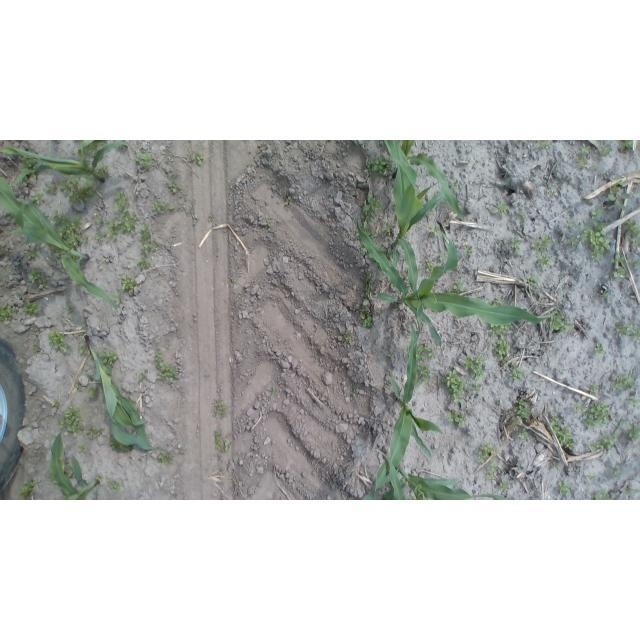Maize: (349, 214, 563, 347), (1, 172, 124, 309), (368, 321, 449, 500), (385, 140, 447, 310), (83, 333, 168, 451), (360, 450, 508, 500), (387, 140, 465, 228), (0, 140, 128, 183), (49, 417, 104, 500)
Weeds: (53, 211, 88, 253), (586, 419, 623, 453), (582, 222, 611, 262), (59, 177, 97, 205), (574, 401, 611, 429), (105, 210, 139, 239), (60, 404, 87, 438), (153, 351, 180, 383), (608, 178, 631, 212), (443, 368, 466, 402), (361, 197, 383, 232), (464, 354, 489, 380), (139, 224, 158, 257), (553, 423, 576, 450), (576, 144, 598, 170), (366, 157, 393, 178), (548, 311, 573, 333), (613, 321, 640, 340), (609, 253, 627, 280), (49, 331, 70, 354), (513, 399, 533, 423), (623, 220, 640, 246), (477, 442, 498, 463), (18, 480, 39, 500), (416, 342, 436, 363), (28, 270, 50, 289), (530, 235, 554, 252), (446, 408, 466, 428), (166, 177, 186, 197), (492, 339, 511, 360), (112, 191, 129, 213), (214, 430, 230, 453), (22, 159, 39, 180), (134, 151, 155, 168), (613, 374, 635, 390), (212, 400, 228, 421), (488, 323, 513, 336), (416, 365, 431, 386), (363, 272, 374, 300), (523, 276, 541, 293), (100, 350, 119, 366), (120, 275, 136, 293), (361, 306, 374, 328), (109, 439, 131, 452), (189, 149, 205, 166), (85, 425, 103, 440), (1, 304, 16, 322), (486, 461, 499, 481), (509, 366, 525, 382), (107, 479, 124, 494), (24, 247, 41, 262), (153, 200, 174, 212), (537, 253, 551, 270), (449, 280, 467, 293), (495, 200, 510, 215), (558, 481, 573, 495), (592, 489, 613, 499), (627, 423, 640, 439), (509, 236, 522, 252), (157, 453, 174, 465), (137, 369, 151, 383), (384, 221, 397, 236), (24, 302, 39, 315), (623, 487, 640, 498), (424, 258, 436, 273), (620, 140, 635, 152), (264, 217, 276, 232), (629, 256, 640, 272), (114, 292, 125, 308), (30, 192, 44, 204), (77, 343, 89, 357), (94, 214, 105, 229), (517, 428, 529, 441), (587, 383, 600, 395), (599, 146, 612, 158), (594, 343, 606, 356), (98, 165, 111, 177), (468, 382, 482, 393), (464, 243, 475, 257), (44, 184, 58, 195), (550, 413, 561, 427), (428, 225, 440, 237), (591, 208, 603, 220), (536, 141, 552, 150), (94, 232, 106, 244), (139, 257, 150, 270), (492, 297, 504, 308), (76, 444, 88, 455), (383, 246, 394, 258), (565, 217, 576, 229), (363, 248, 373, 261), (568, 236, 579, 247), (628, 397, 639, 408), (367, 229, 379, 239), (65, 466, 75, 478), (89, 386, 99, 398), (344, 331, 352, 346), (451, 179, 460, 192), (546, 188, 560, 196), (551, 461, 561, 472), (499, 481, 510, 491), (87, 144, 96, 156), (600, 288, 613, 296), (285, 193, 295, 203), (72, 380, 82, 390), (270, 388, 279, 399), (67, 305, 76, 316), (438, 251, 447, 261), (517, 212, 527, 221), (32, 345, 41, 355), (502, 359, 510, 370), (95, 475, 104, 484), (613, 470, 623, 478), (51, 400, 59, 409), (586, 474, 594, 482), (230, 276, 238, 284), (350, 390, 358, 398), (208, 214, 215, 223), (389, 351, 396, 359), (173, 492, 178, 498)
